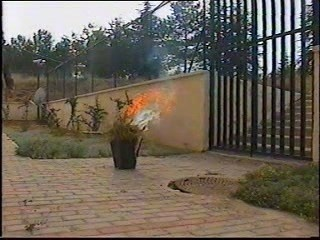fire: (121, 80, 179, 126)
